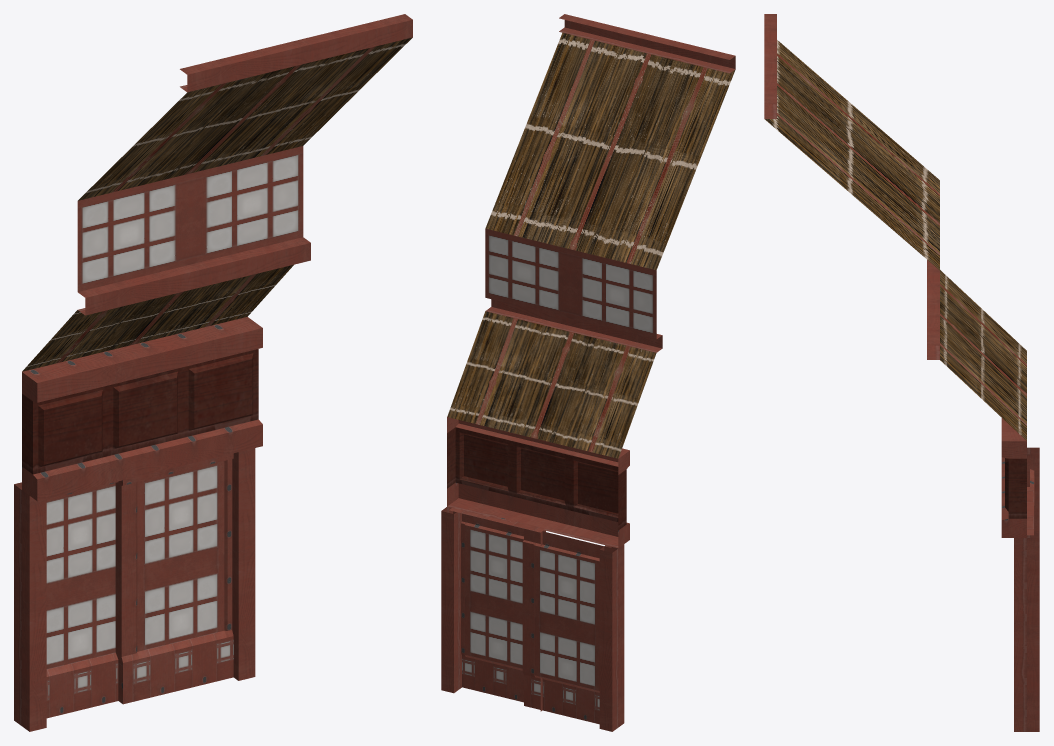
File: WallClosed.fbx
The picture shows the model from 3 angles, left to right: view 1: azimuth 30°, elevation 25°; view 2: azimuth 150°, elevation 25°; view 3: azimuth 270°, elevation 25°; orthographic projection. The views are drawn at different scales.
Parts seen in each view (by area): view 1: WallClosed; view 2: WallClosed; view 3: WallClosed.
Boxes of the visible parts, bbox=[...] form: WallClosed: bbox=[14, 14, 412, 731]; WallClosed: bbox=[441, 14, 735, 731]; WallClosed: bbox=[764, 14, 1039, 731].
Bounding box in the file's own units: 2.05 × 6.5 × 2.58.
